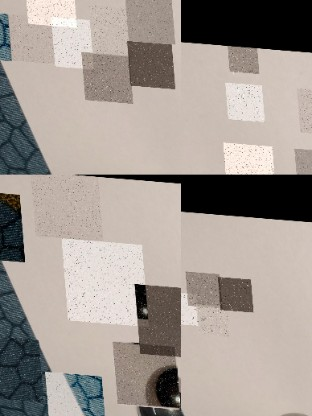ironball: (59, 236, 145, 323), (29, 174, 101, 238), (108, 338, 174, 404), (131, 280, 180, 354), (40, 370, 101, 415), (79, 49, 130, 100), (0, 334, 38, 400), (125, 37, 172, 85), (6, 13, 52, 62), (87, 2, 131, 53), (49, 15, 91, 67), (123, 0, 173, 40), (220, 139, 272, 174), (0, 189, 22, 260), (223, 79, 262, 117), (183, 269, 219, 306), (23, 0, 75, 25), (215, 274, 250, 309), (193, 302, 226, 333), (226, 42, 257, 70), (295, 83, 311, 130), (291, 143, 311, 174), (180, 290, 195, 323), (302, 47, 311, 66)
